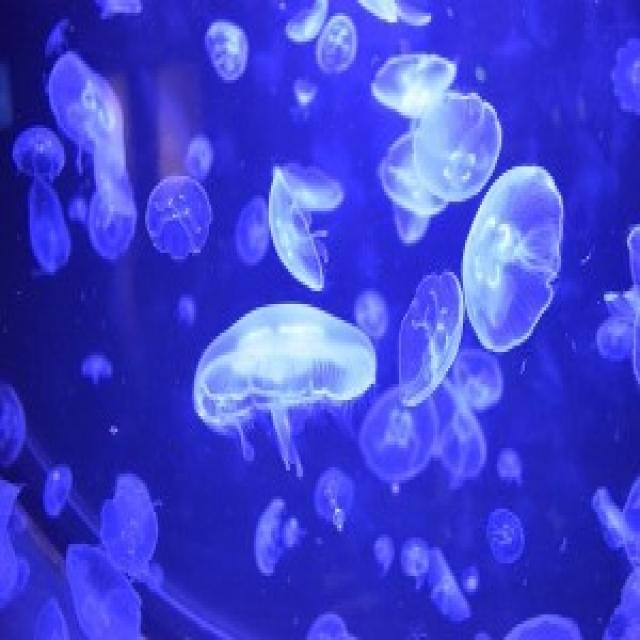Jellyfish: (188, 300, 378, 428), (464, 163, 563, 356), (4, 128, 78, 278), (416, 95, 503, 203), (399, 258, 462, 407), (260, 169, 326, 299), (357, 392, 438, 480), (98, 469, 164, 574), (149, 167, 212, 260), (246, 498, 306, 576), (197, 16, 252, 82), (310, 468, 357, 540), (308, 20, 356, 80)
